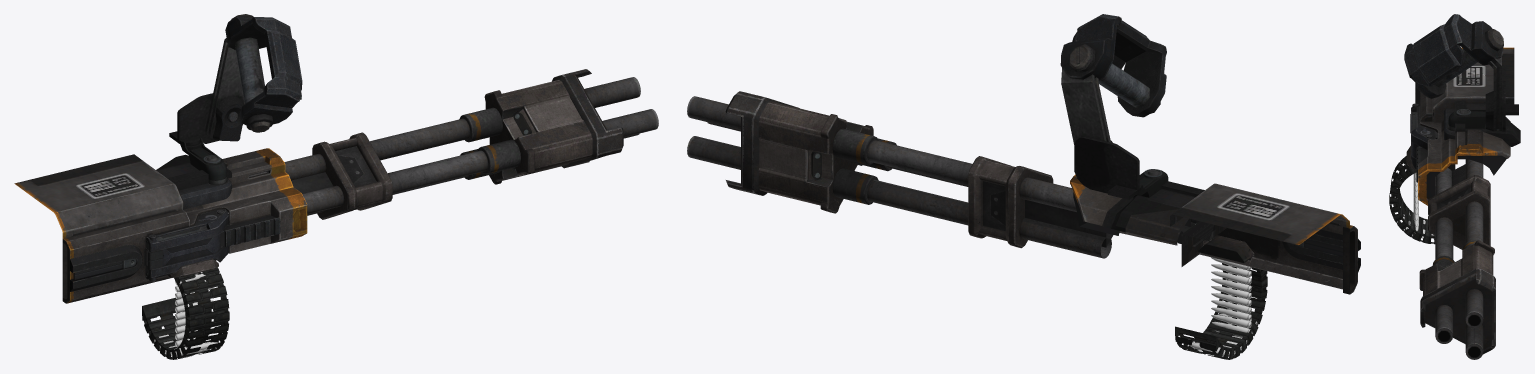
File: t6_wpn_minigun_view_LOD0.obj
3 views of the same model, side by side, from view 1: azimuth 30°, elevation 25°; view 2: azimuth 150°, elevation 25°; view 3: azimuth 270°, elevation 25° (orthographic). The views are drawn at different scales.
Parts seen in each view (by area): view 1: mtl_t6_wpn_minigun, mtl_t6_wpn_minigun_ammo, mtl_t6_attach_bullet; view 2: mtl_t6_wpn_minigun, mtl_t6_wpn_minigun_ammo, mtl_t6_attach_bullet; view 3: mtl_t6_wpn_minigun, mtl_t6_wpn_minigun_ammo, mtl_t6_attach_bullet.
Part boxes in pixels (x1=…): mtl_t6_wpn_minigun: x1=14, y1=14, x2=658, y2=303; mtl_t6_wpn_minigun_ammo: x1=142, y1=266, x2=229, y2=359; mtl_t6_attach_bullet: x1=154, y1=273, x2=218, y2=356; mtl_t6_wpn_minigun: x1=687, y1=14, x2=1360, y2=294; mtl_t6_wpn_minigun_ammo: x1=1175, y1=237, x2=1267, y2=359; mtl_t6_attach_bullet: x1=1189, y1=257, x2=1257, y2=357; mtl_t6_wpn_minigun: x1=1404, y1=14, x2=1520, y2=359; mtl_t6_wpn_minigun_ammo: x1=1389, y1=156, x2=1435, y2=244; mtl_t6_attach_bullet: x1=1404, y1=173, x2=1434, y2=239.
Size of the model in its own units: 94.65 by 46.18 by 21.44.
